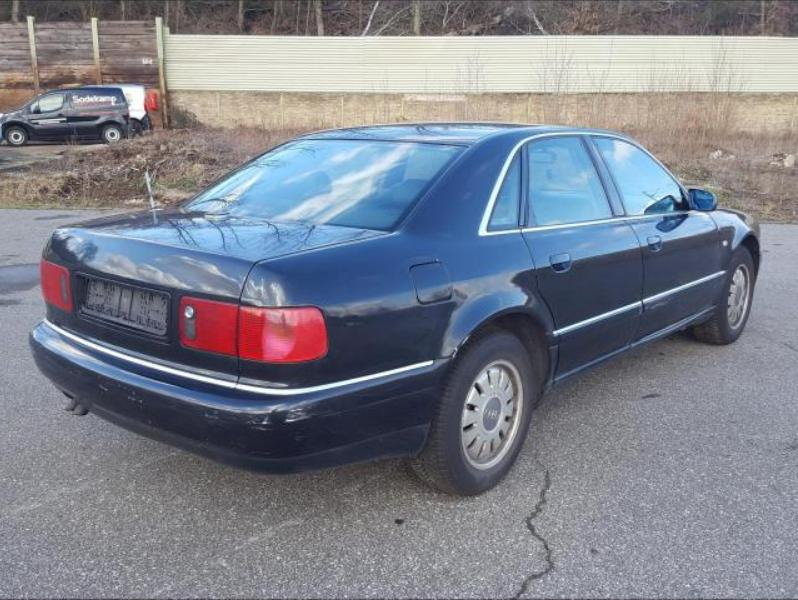Back-bumper: (31, 320, 453, 474)
Back-door: (521, 134, 644, 379)
Back-wheel: (404, 324, 533, 498)
Back-window: (528, 138, 612, 226), (491, 155, 520, 224)
Back-windshield: (183, 139, 468, 232)
Fender: (706, 208, 761, 317)
Front-door: (589, 135, 719, 345)
Front-wheel: (694, 245, 755, 345)
Front-window: (592, 137, 689, 215)
License-plate: (80, 278, 167, 337)
Mirror: (683, 188, 717, 211)
Quarter-panel: (236, 232, 560, 409)
Rocker-panel: (552, 305, 715, 390)
Roof: (301, 122, 586, 146)
Tail-light: (178, 295, 327, 363), (40, 258, 74, 313)
Trunk: (42, 209, 393, 384)
